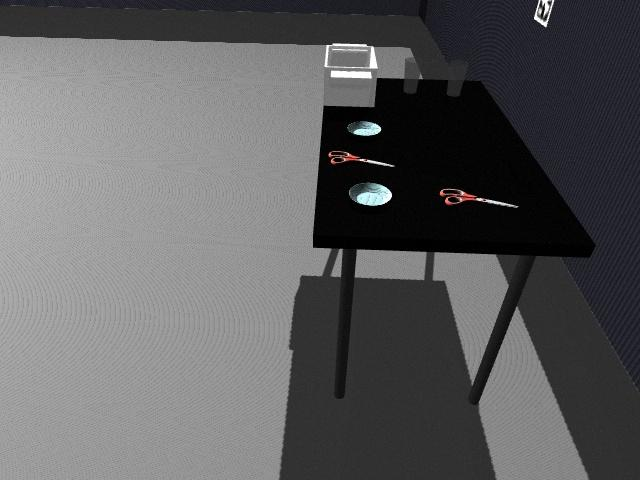cup: (445, 60, 469, 99), (403, 55, 420, 96)
plate: (348, 182, 393, 206), (345, 121, 383, 137)
scissors: (440, 186, 519, 208), (328, 150, 392, 169)
